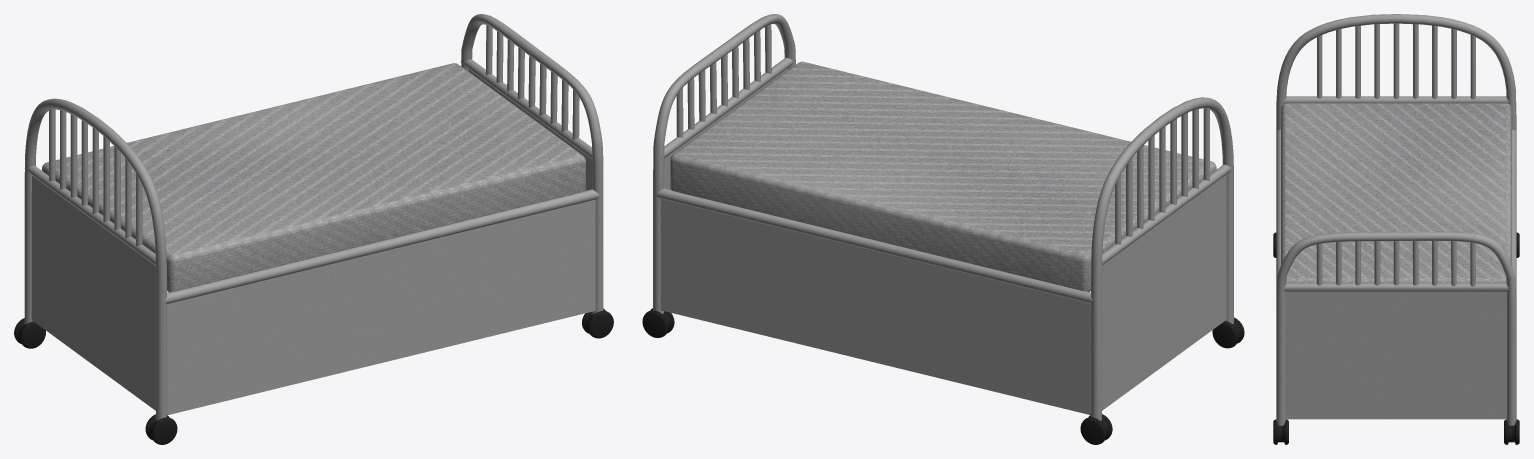
Rendered from Bett.fbx.
3 views of the same model, side by side, from view 1: azimuth 30°, elevation 25°; view 2: azimuth 150°, elevation 25°; view 3: azimuth 270°, elevation 25° (orthographic). The views are drawn at different scales.
Visible parts, largest first — view 1: Matraze, Links, Anfang, Ende, Rad_4, Rad_3, Rad; view 2: Matraze, Rechts, Anfang, Ende, Rad, Rad_2, Rad_4; view 3: Ende, Matraze, Anfang, Rechts, Links, Rad_2, Rad_3.
Part boxes in pixels (x1,y1,x2,y2): Matraze: (42,63,585,292); Links: (164,189,600,415); Anfang: (24,98,166,420); Ende: (460,14,603,314); Rad_4: (145,414,177,444); Rad_3: (582,308,613,338); Rad: (14,318,45,348); Matraze: (670,61,1216,291); Rechts: (656,188,1093,415); Anfang: (1091,97,1233,420); Ende: (653,14,795,313); Rad: (1080,414,1112,444); Rad_2: (642,308,674,337); Rad_4: (1212,317,1244,348); Ende: (1276,231,1516,425); Matraze: (1281,103,1511,283); Anfang: (1276,14,1516,131); Rechts: (1512,129,1516,304); Links: (1276,129,1280,289); Rad_2: (1504,419,1519,444); Rad_3: (1273,419,1288,444).
Bounding box in the file's own units: 243 × 139 × 128.
Materials: 1 (1 with a texture image).
